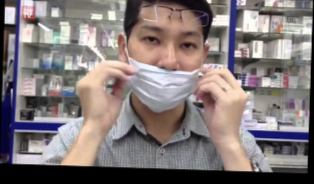mask_weared_incorrect: (125, 23, 205, 114)
